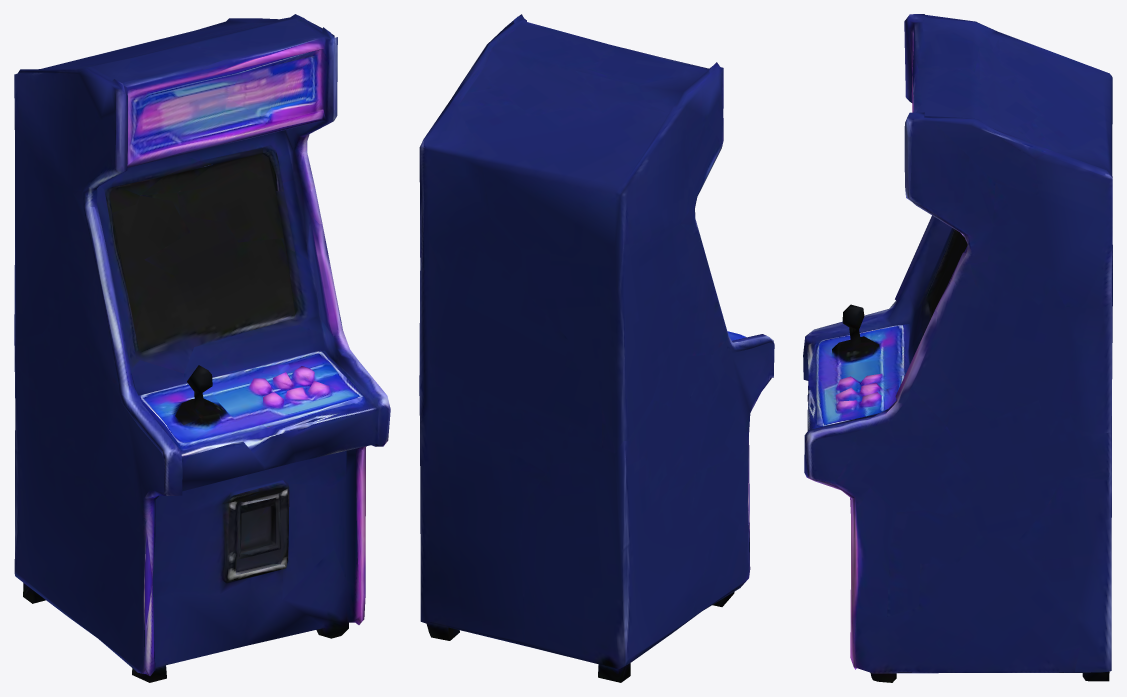
3 renders of one model, left to right at view 1: azimuth 30°, elevation 25°; view 2: azimuth 150°, elevation 25°; view 3: azimuth 270°, elevation 25°, orthographic. The views are drawn at different scales.
Parts seen in each view (by area): view 1: tripo_node_149d09b4-27b8-451e-b20a-c644dd62eced; view 2: tripo_node_149d09b4-27b8-451e-b20a-c644dd62eced; view 3: tripo_node_149d09b4-27b8-451e-b20a-c644dd62eced.
Part boxes in pixels (x1,y1,x2,y2): tripo_node_149d09b4-27b8-451e-b20a-c644dd62eced: (14, 14, 390, 682); tripo_node_149d09b4-27b8-451e-b20a-c644dd62eced: (419, 14, 774, 682); tripo_node_149d09b4-27b8-451e-b20a-c644dd62eced: (803, 14, 1112, 682).
Bounding box in the file's own units: 0.7648 × 1.9 × 0.9325.
Materials: 1 (1 with a texture image).
